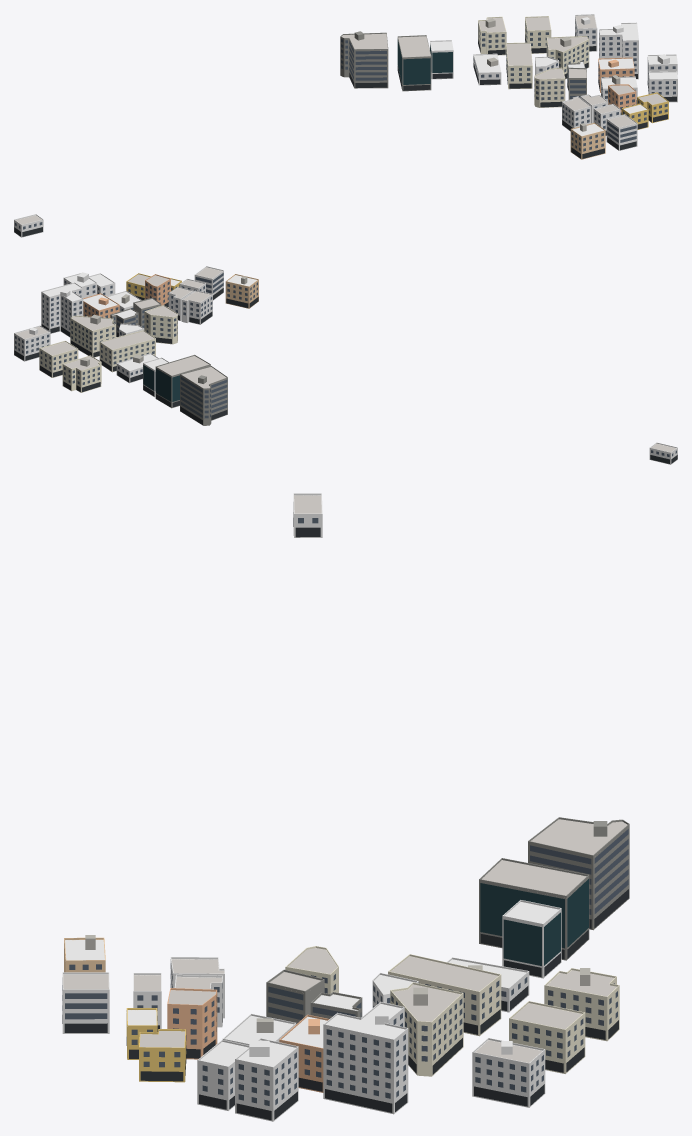
Rendered from fill_mid_n.glb.
3 renders of one model, top to bottom at view 1: azimuth 30°, elevation 25°; view 2: azimuth 150°, elevation 25°; view 3: azimuth 270°, elevation 25°, orthographic. The views are drawn at different scales.
Parts seen in each view (by area): view 1: fill_mid_n; view 2: fill_mid_n; view 3: fill_mid_n.
Boxes of the visible parts, x1,y1,x2,y2 form: fill_mid_n: (14,14,677,237); fill_mid_n: (14,266,677,464); fill_mid_n: (62,493,629,1121).
Size of the model in its own units: 385 by 24.6 by 153.
